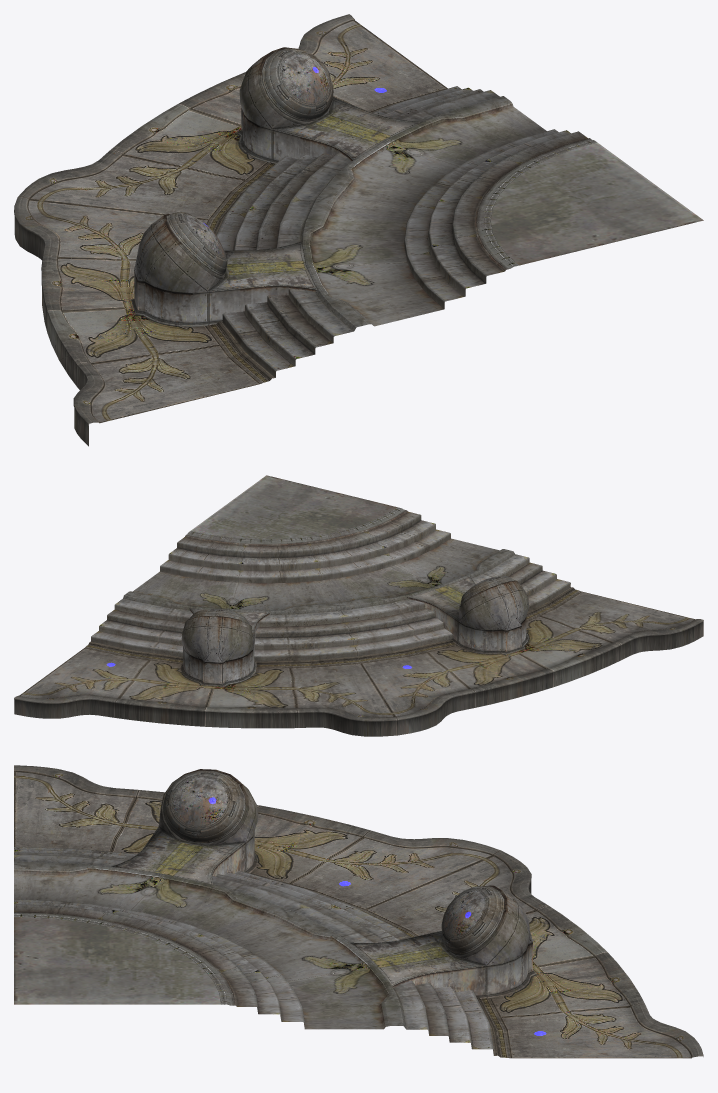
The model's file is SM_Cave_Floor_Stairs_Quarter.glb.
3 renders of one model, top to bottom at view 1: azimuth 30°, elevation 25°; view 2: azimuth 150°, elevation 25°; view 3: azimuth 270°, elevation 25°, orthographic. The views are drawn at different scales.
Visible parts, largest first — view 1: SM_Cave_Floor_Stairs_Quarter; view 2: SM_Cave_Floor_Stairs_Quarter; view 3: SM_Cave_Floor_Stairs_Quarter.
Part boxes in pixels (x1,y1,x2,y2): SM_Cave_Floor_Stairs_Quarter: (14, 14, 703, 446); SM_Cave_Floor_Stairs_Quarter: (14, 475, 703, 736); SM_Cave_Floor_Stairs_Quarter: (14, 765, 703, 1058).
Bounding box in the file's own units: 25.58 × 4.31 × 25.58.
2 materials, 2 textured.
